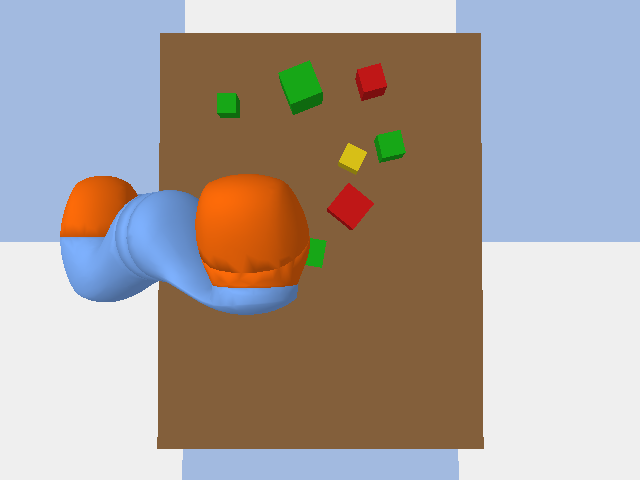green_obj: (278, 60, 322, 114), (374, 130, 405, 162), (305, 238, 326, 267), (217, 93, 239, 117)
red_obj: (327, 183, 373, 229), (355, 63, 386, 100)
yellow_obj: (338, 143, 366, 174)
